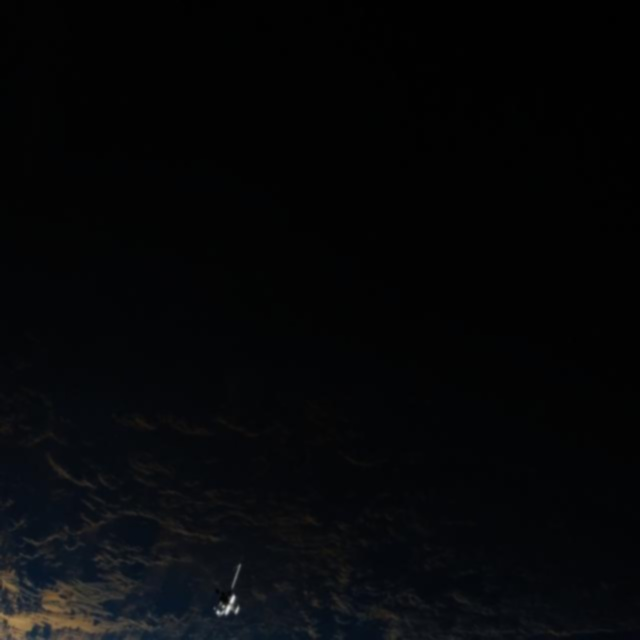satellite: (192, 553, 270, 640)
